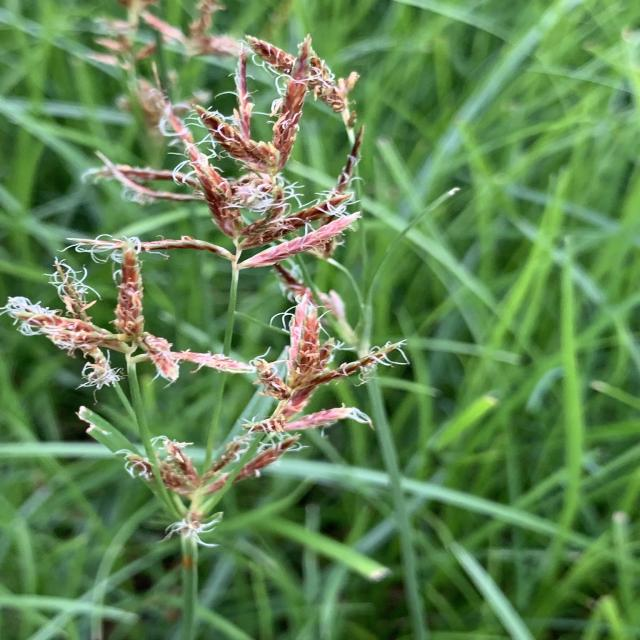cyperus: (8, 1, 420, 550)
